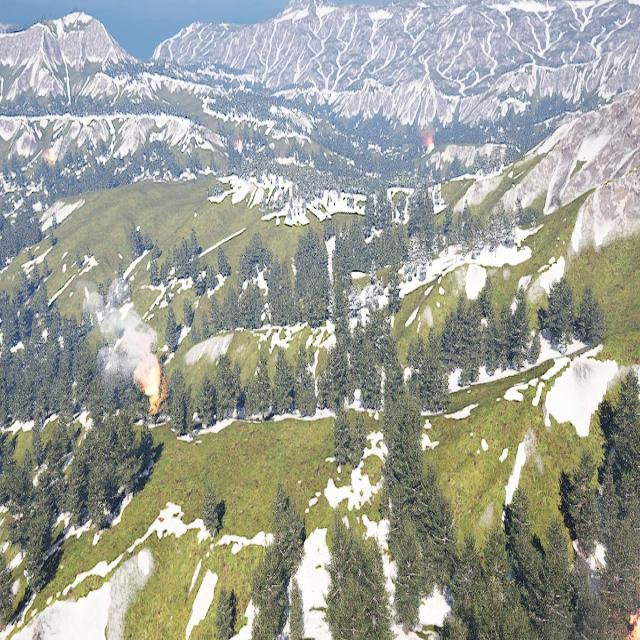fire: (143, 360, 161, 400), (627, 615, 640, 640), (46, 147, 58, 165), (235, 138, 244, 154), (425, 136, 434, 151)
smoke: (81, 280, 157, 382), (418, 113, 436, 142)
